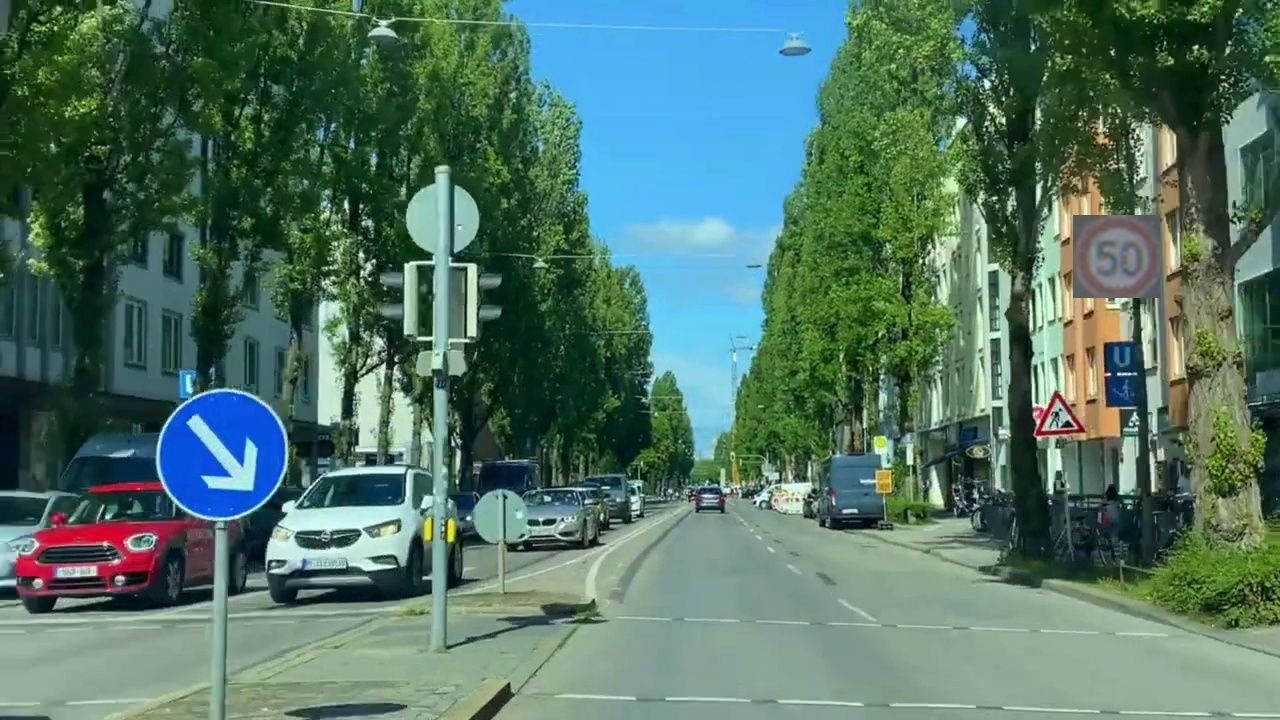Speed 50: (1073, 215, 1160, 298)
